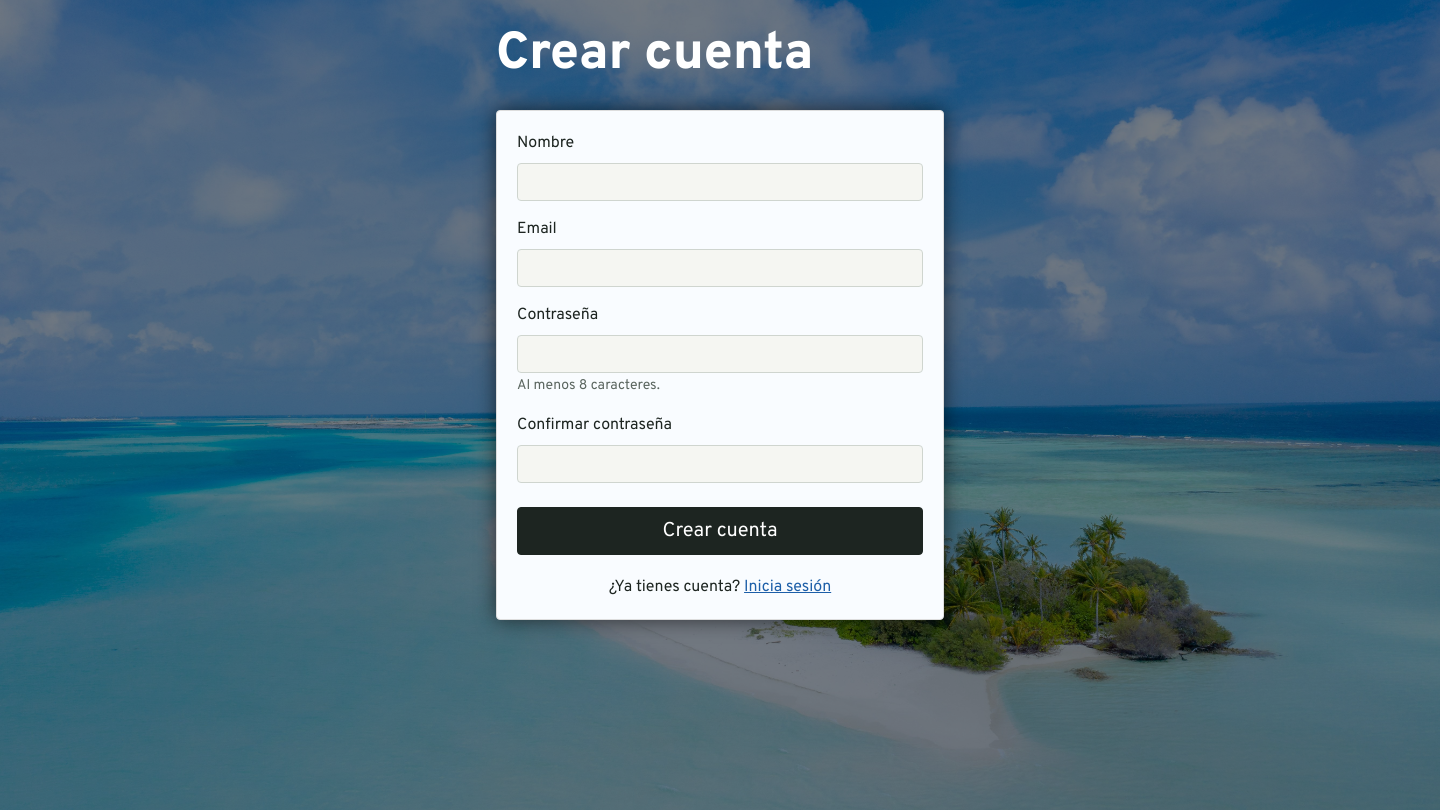
B2 RegisterPage › a confirmation that differs is rejected
Type "Ana" into the field labelled "Nombre" at (720, 182), box [517, 163, 923, 201]
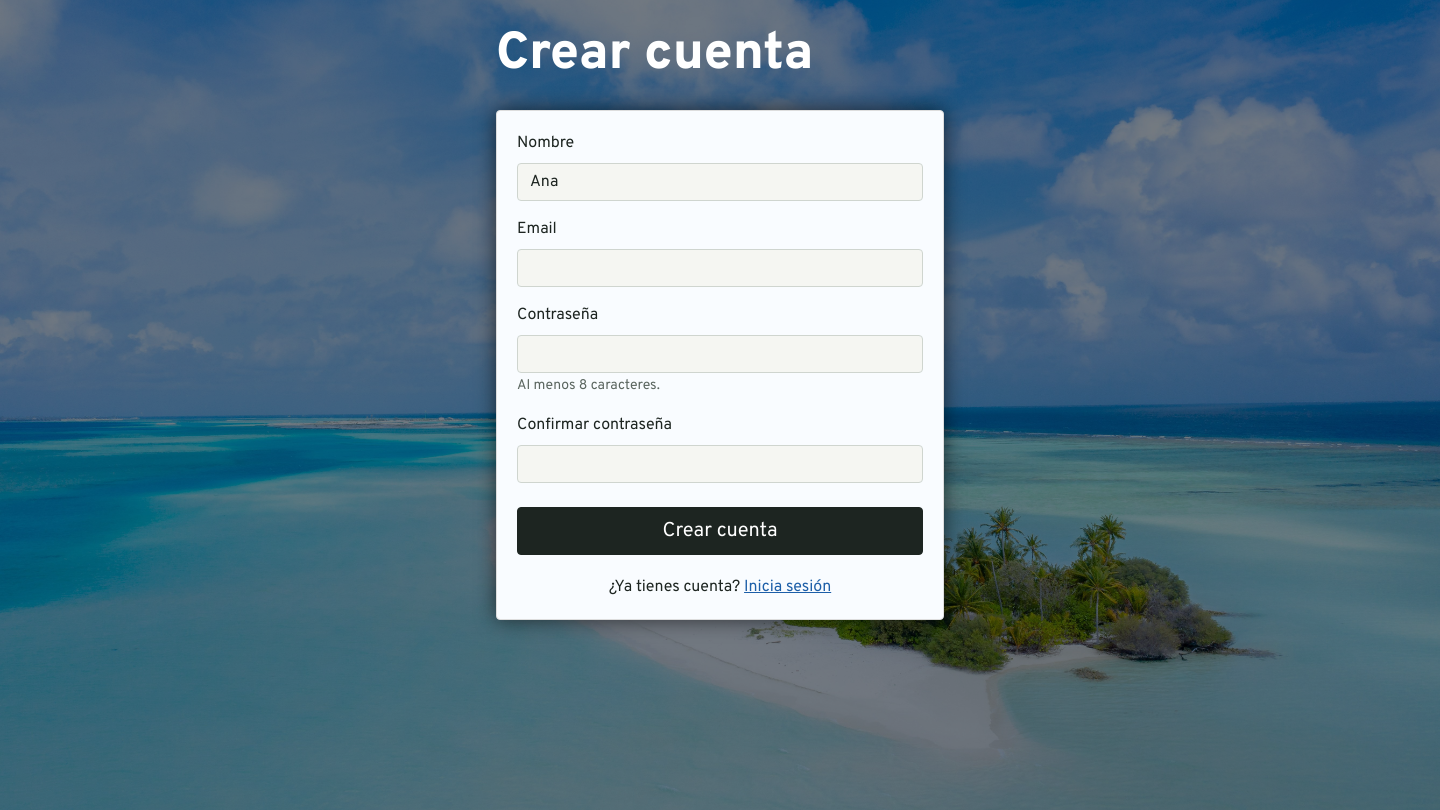
Type "ana@example.com" into the field labelled "Email" at (720, 268), box [517, 249, 923, 287]
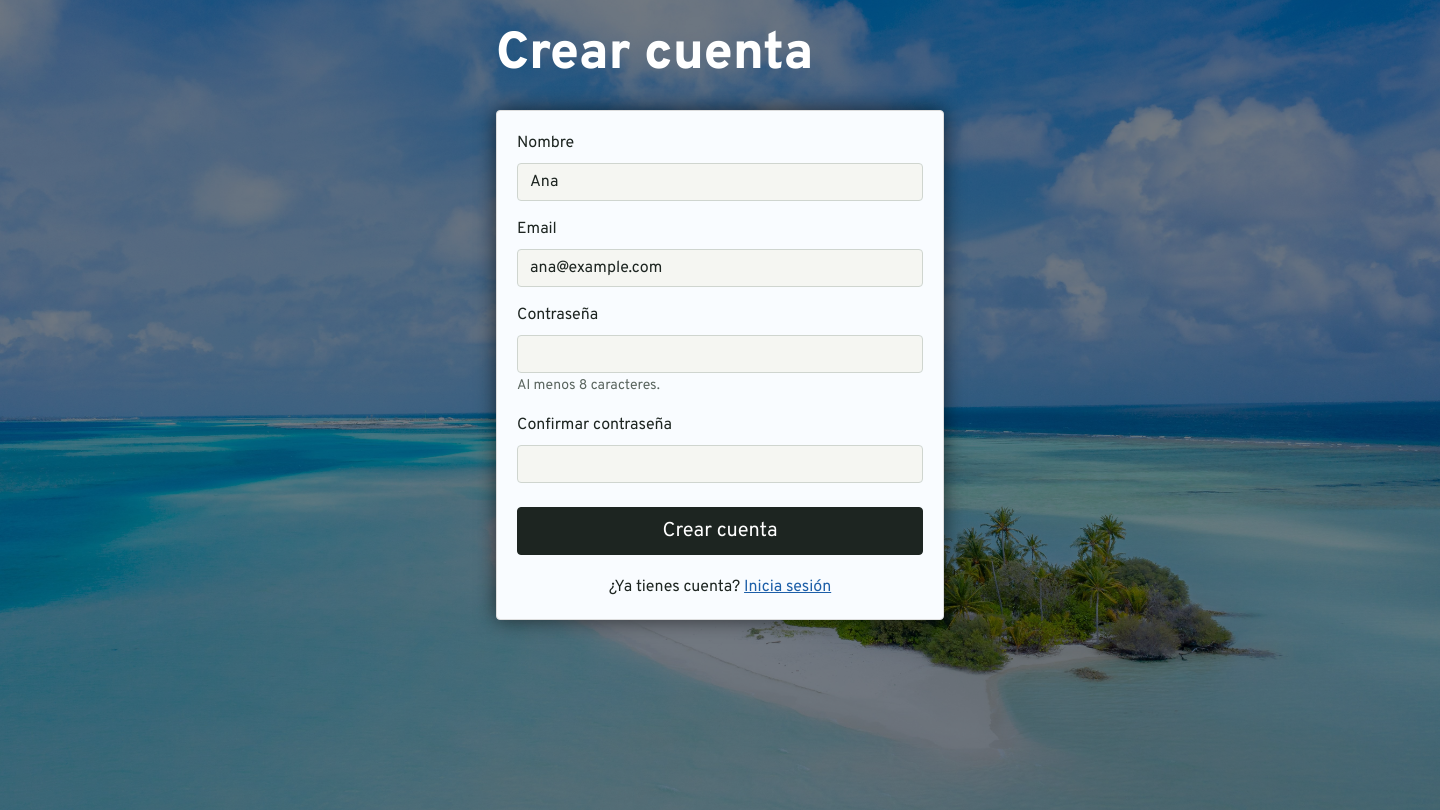
Type "secret-pass" into the password field labelled "Contraseña" at (720, 354), box [517, 335, 923, 373]
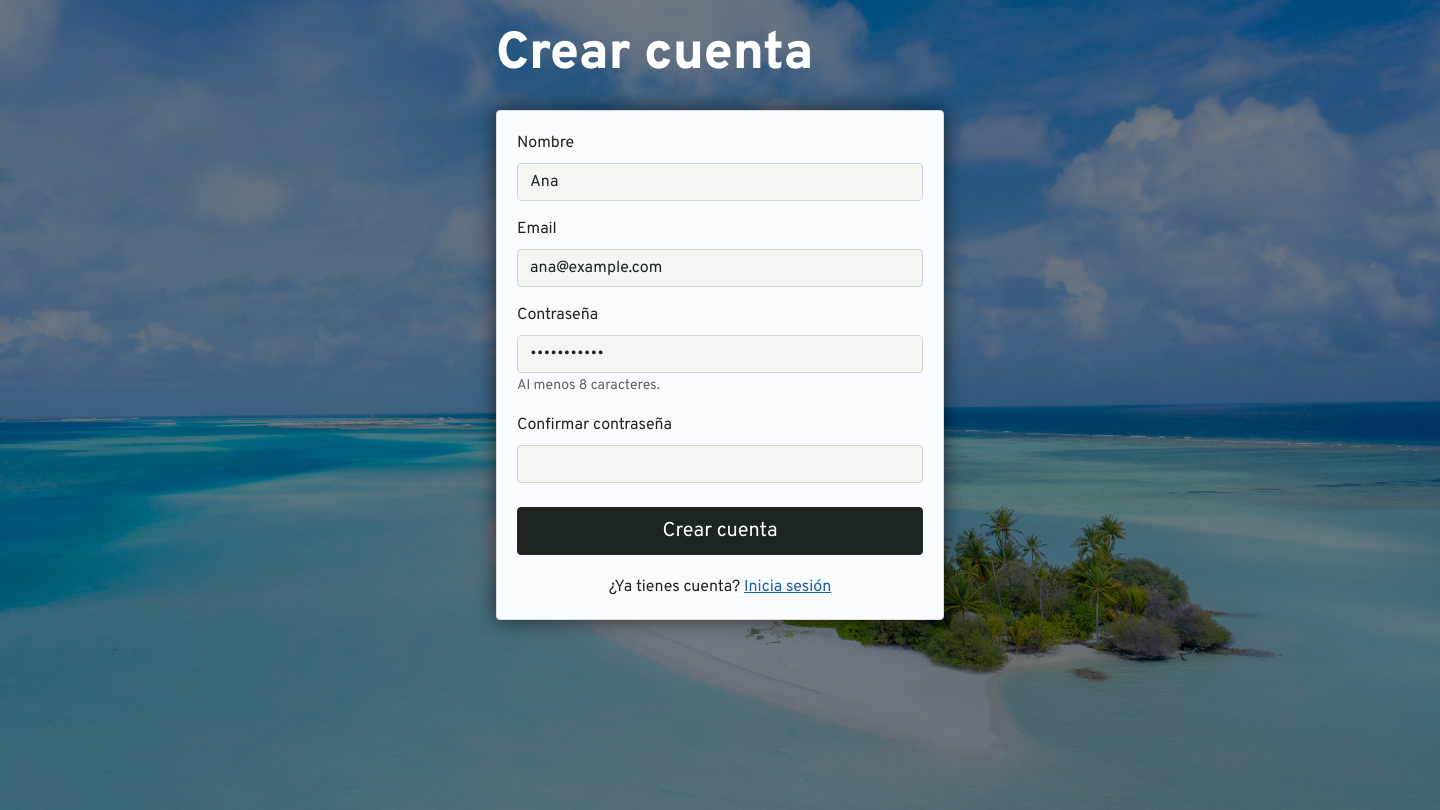
Type "other-pass" into the password field labelled "Confirmar contraseña" at (720, 464), box [517, 445, 923, 483]
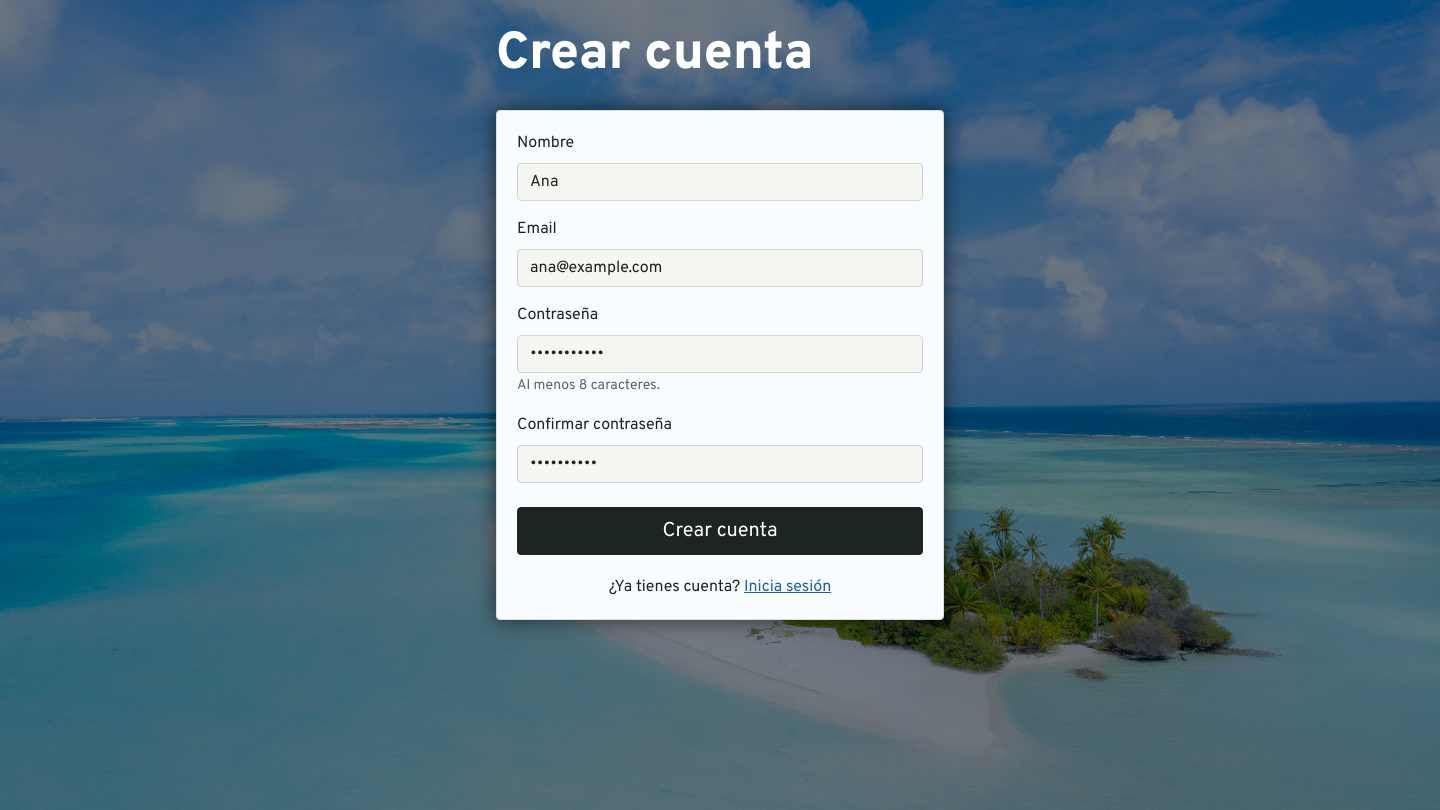
Click the button "Crear cuenta" at (720, 531), box [517, 507, 923, 555]
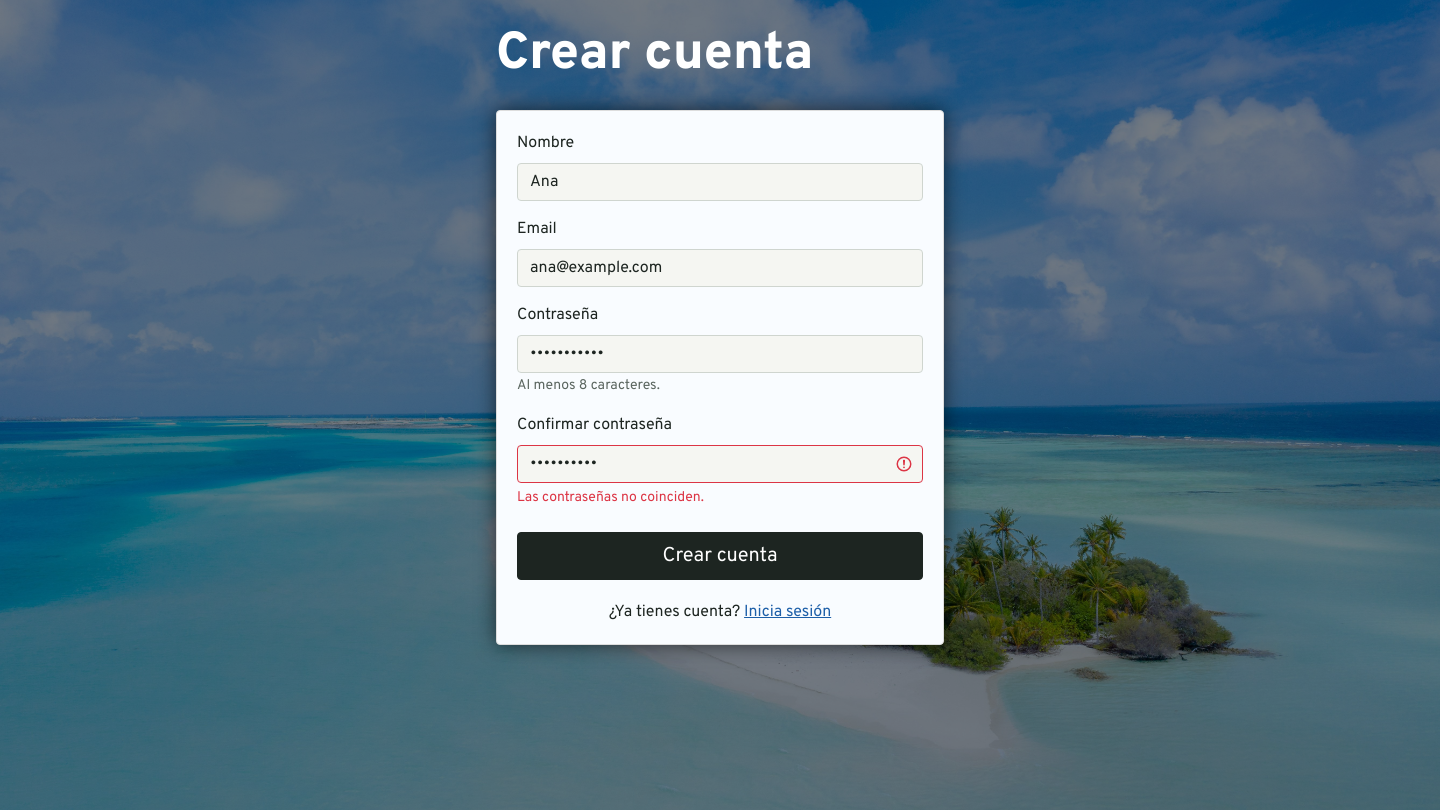
Result: the text "Las contraseñas no coinciden." is shown at [517, 489, 704, 506]
